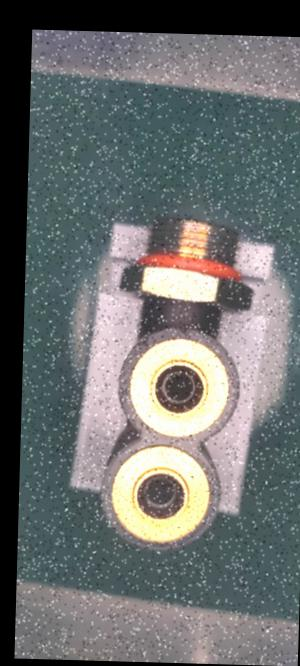bump: (126, 328, 158, 355), (174, 325, 197, 342)
white mark: (182, 299, 191, 312)
